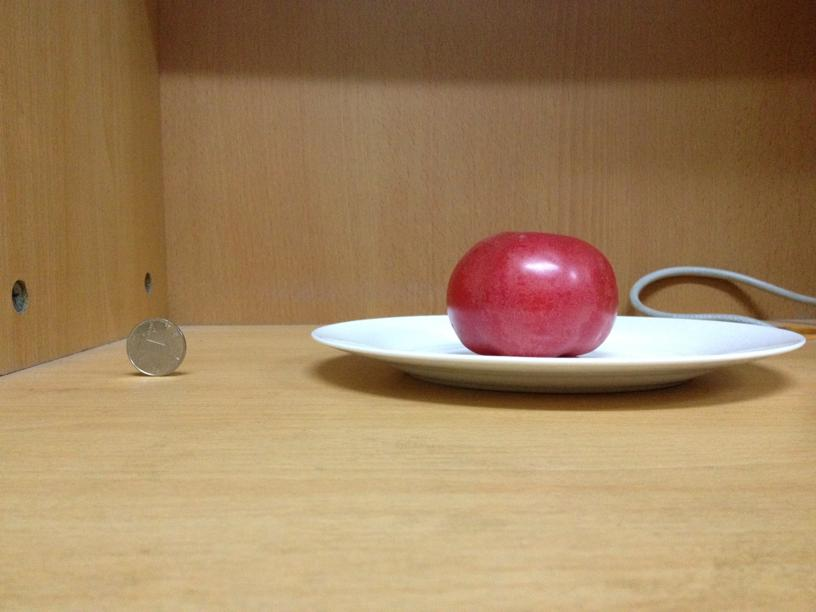coin: (120, 315, 192, 381)
tomato: (441, 227, 624, 357)
